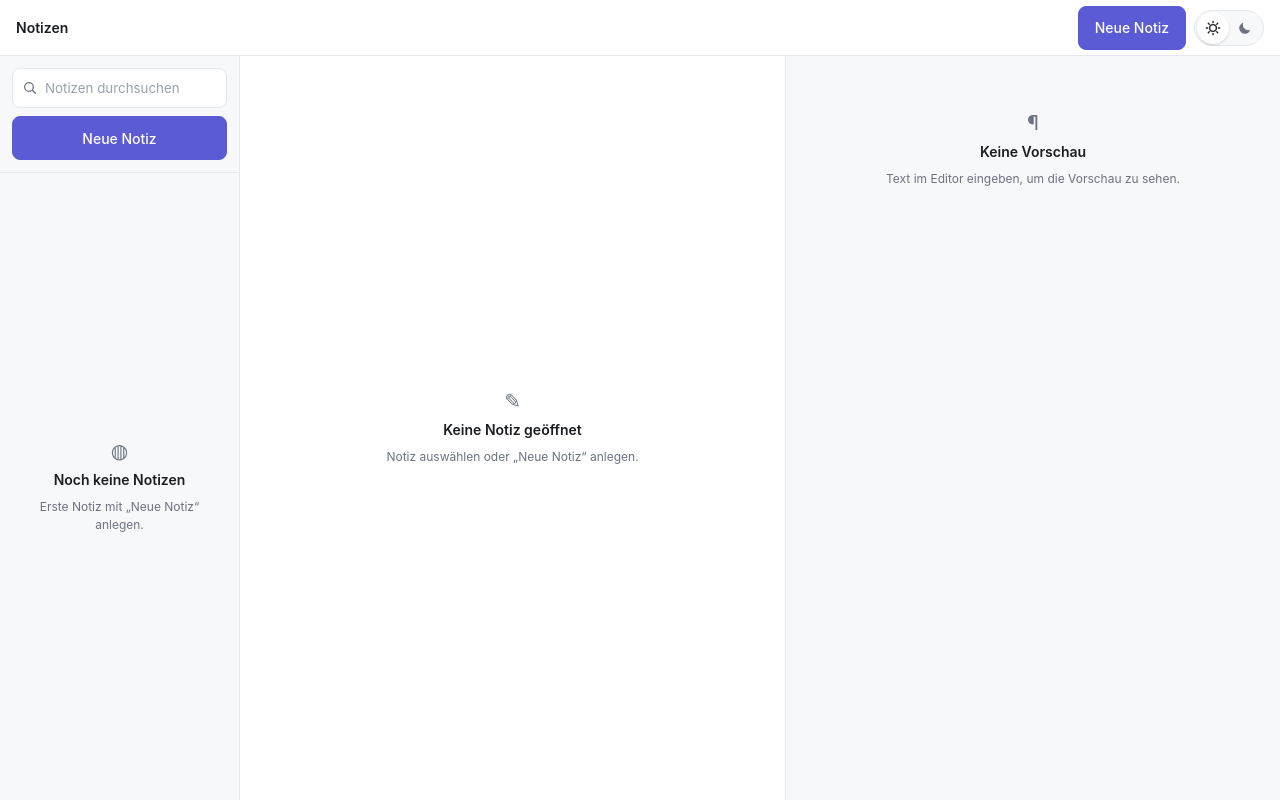
note create/edit flow › adds a saved note to the list immediately and persists it
The width and height of the screenshot is (1280, 800).
Click the button with test id "header-new-note".
click(1132, 28)  # box [1078,6,1186,50]
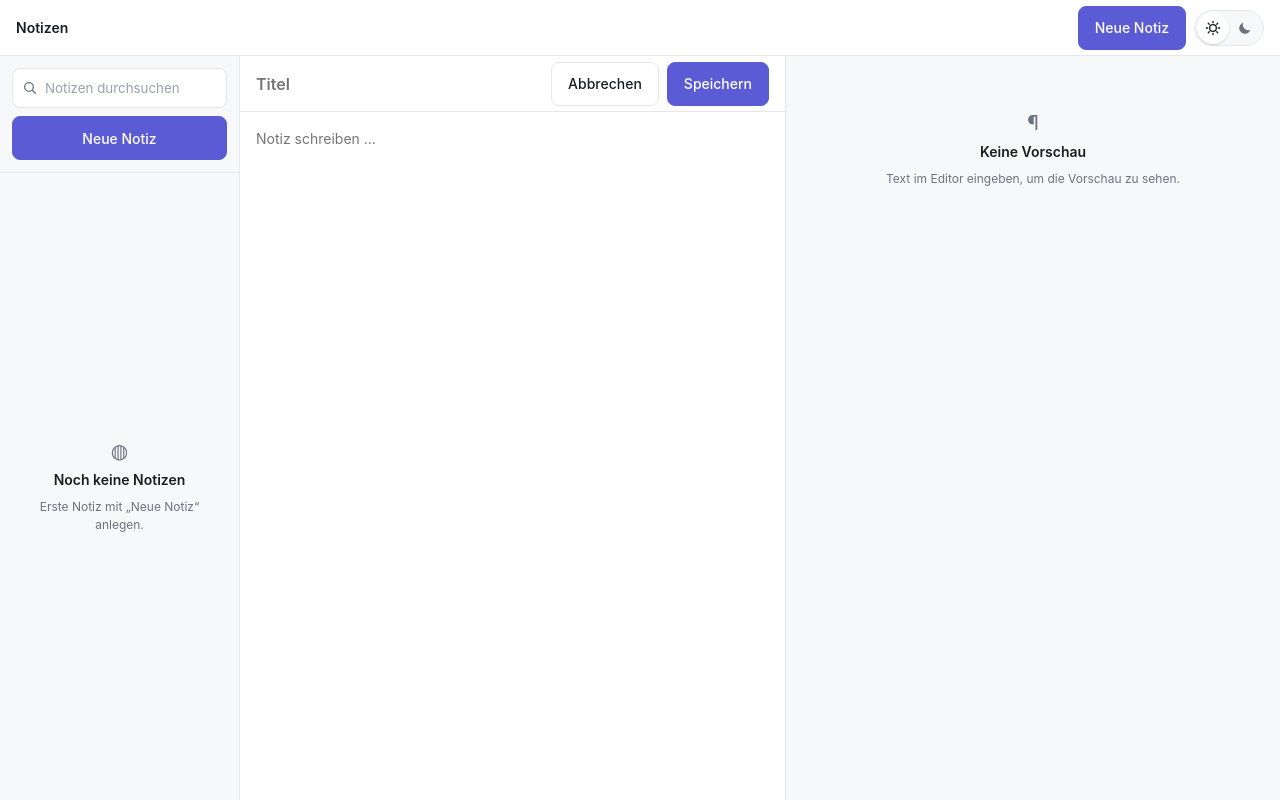
Type "Einkauf" into the field with test id "editor-title".
click(400, 84); type("Einkauf")  # box [256,64,543,104]
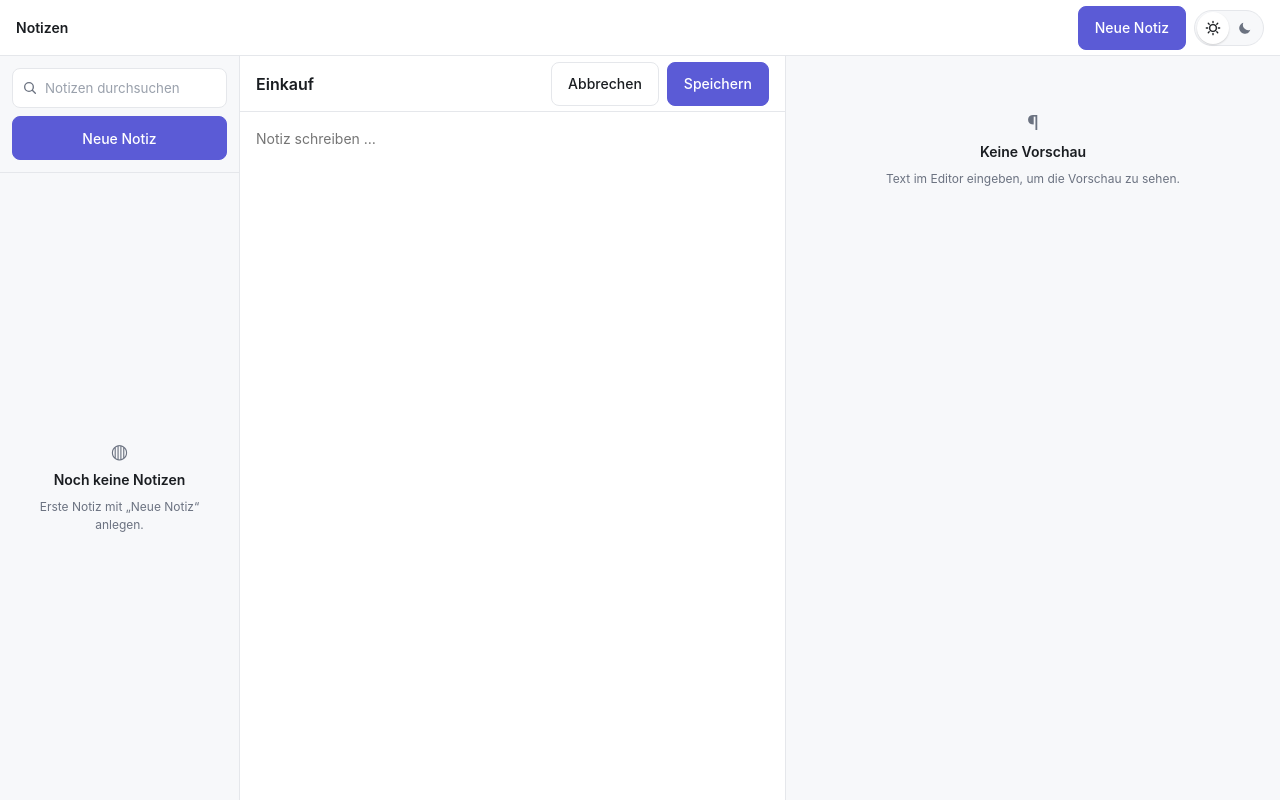
Type "Milch und Brot" into the text box with test id "editor-body".
click(512, 456); type("Milch und Brot")  # box [240,112,785,799]
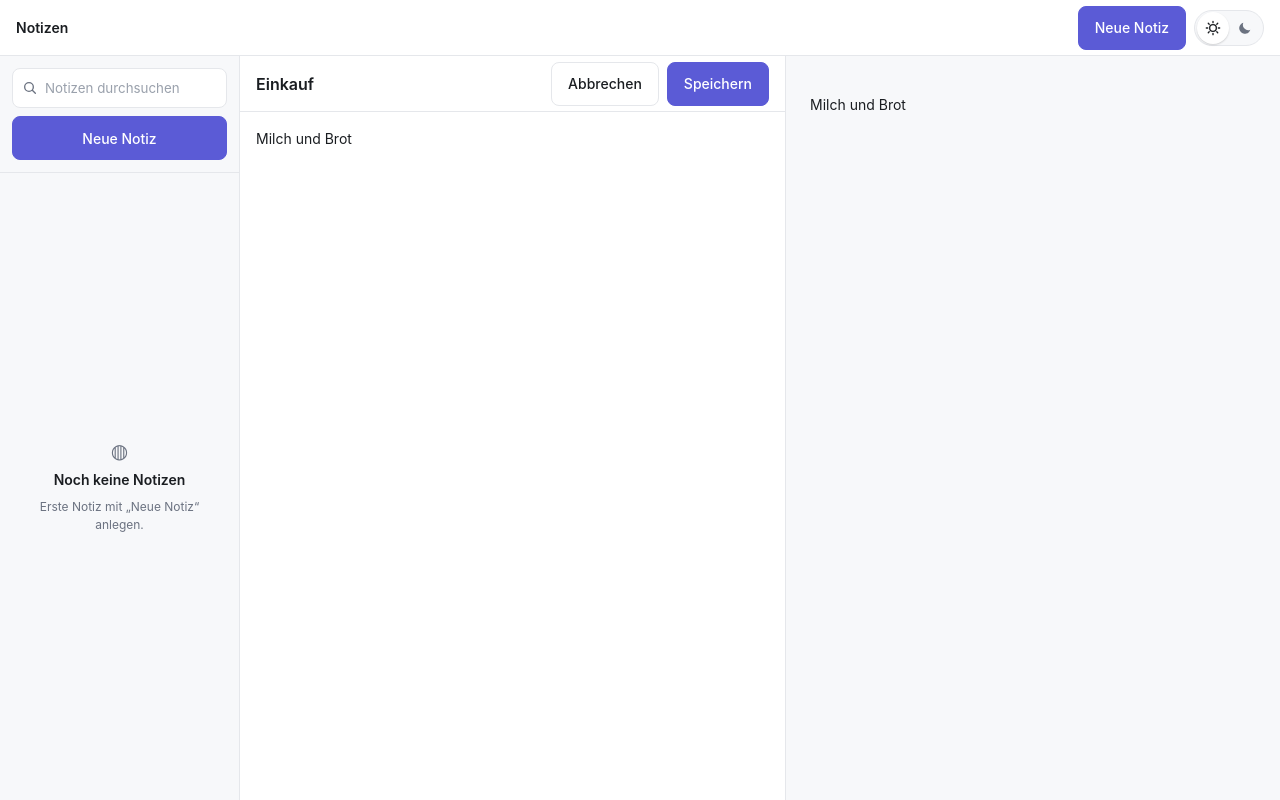
Click the button with test id "editor-save".
click(718, 84)  # box [667,62,769,106]
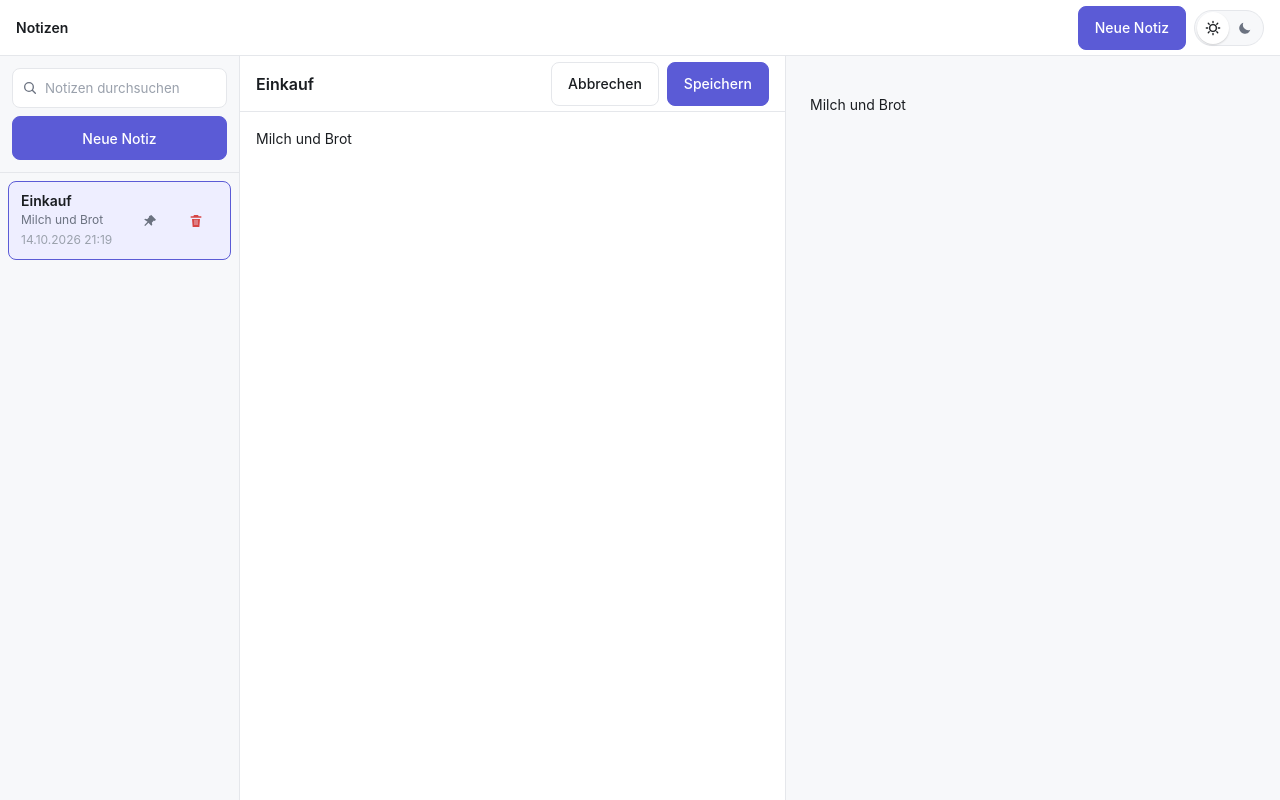
Expected: the number of list items with class "note-row" is 1, [8,181,231,260]
Expected: the list item with class "note-row" shows "Einkauf", [21,192,124,249]
Expected: the text "Einkauf" is shown, [21,192,72,209]
